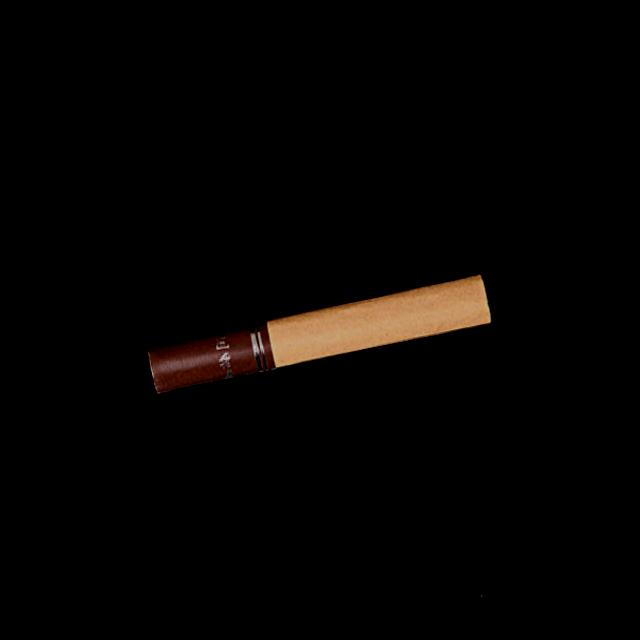cigarette: (138, 266, 502, 412)
